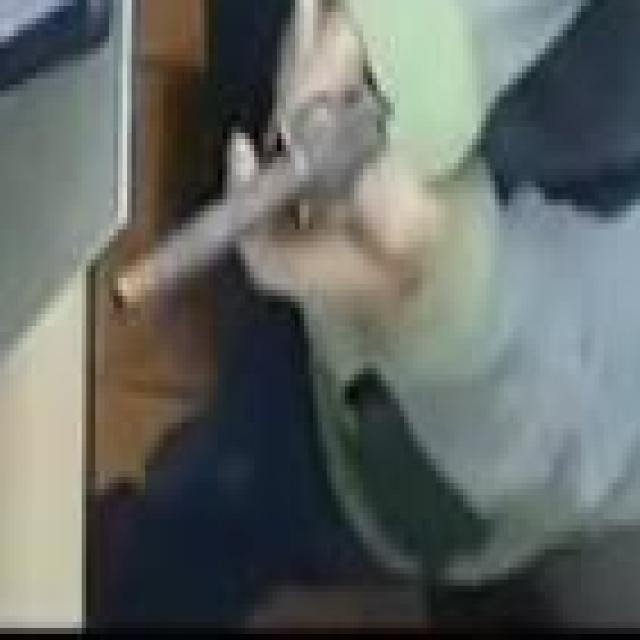Guns: (95, 51, 412, 346)
